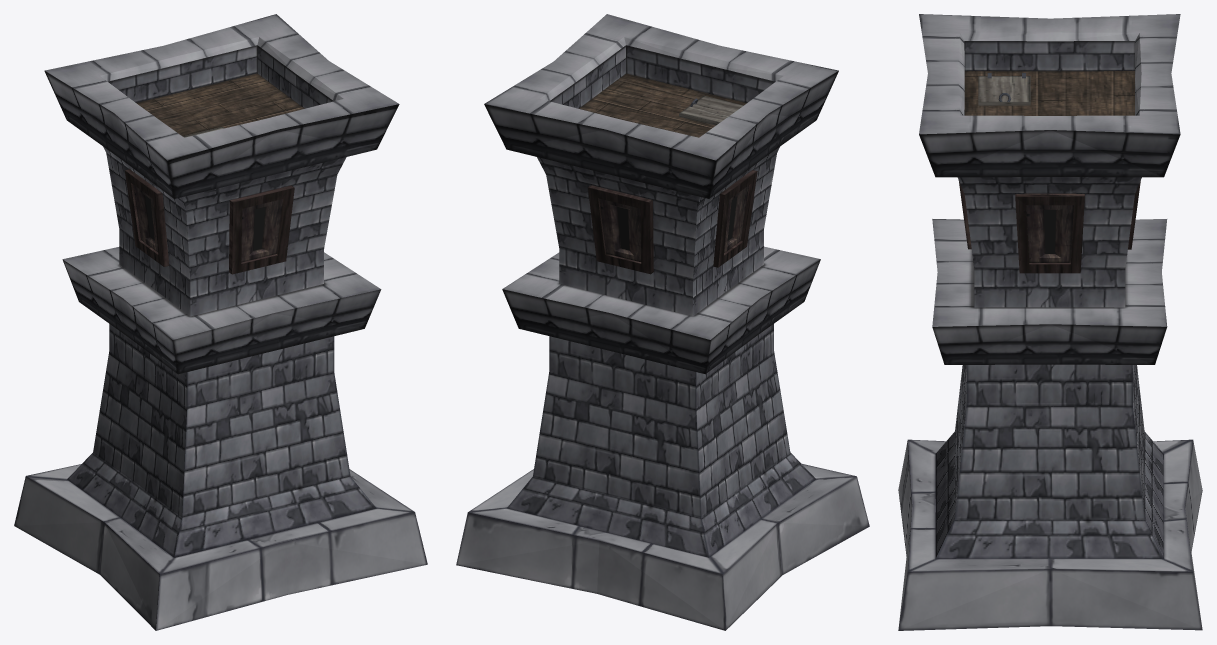
File: Archer_tower_fbx.FBX
3 views of the same model, side by side, from view 1: azimuth 30°, elevation 25°; view 2: azimuth 150°, elevation 25°; view 3: azimuth 270°, elevation 25° (orthographic). The views are drawn at different scales.
Parts seen in each view (by area): view 1: archer_tower01; view 2: archer_tower01; view 3: archer_tower01.
Boxes of the visible parts, x1,y1,x2,y2 form: archer_tower01: [14, 14, 427, 630]; archer_tower01: [456, 14, 869, 630]; archer_tower01: [898, 14, 1202, 630].
Size of the model in its own units: 30.75 by 49.49 by 28.03.
